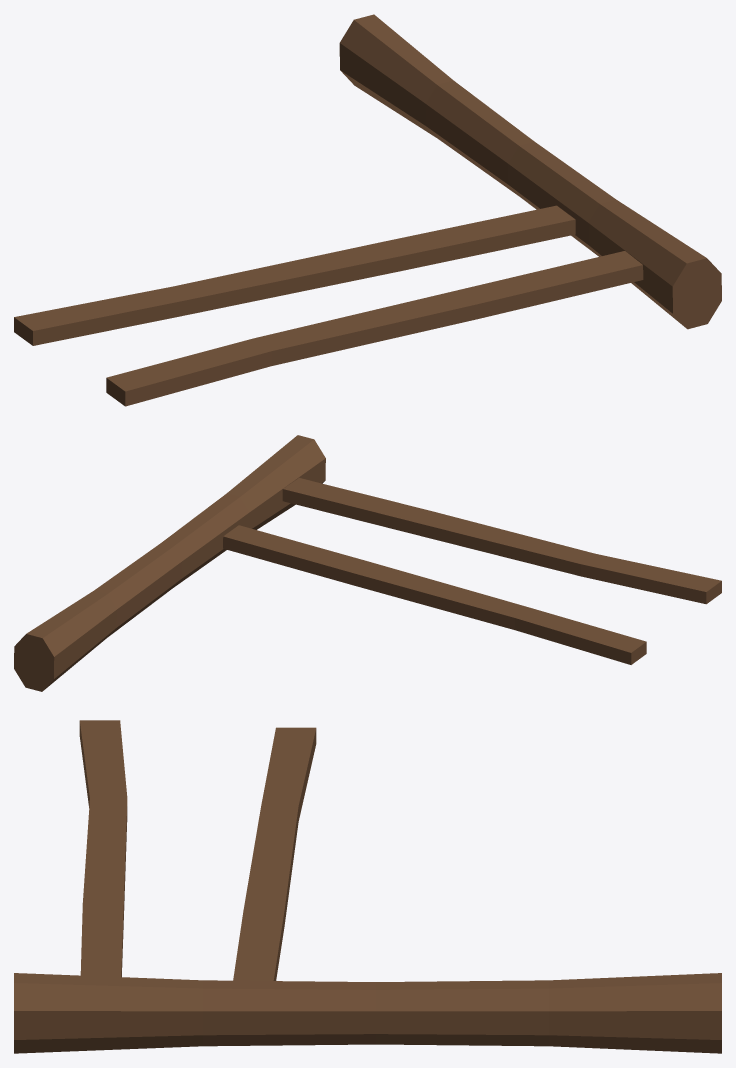
The model's file is Barrier_03_Right.fbx.
3 views of the same model, one above another, from view 1: azimuth 30°, elevation 25°; view 2: azimuth 150°, elevation 25°; view 3: azimuth 270°, elevation 25° (orthographic). The views are drawn at different scales.
Visible parts, largest first — view 1: Barriere_3 bord droit; view 2: Barriere_3 bord droit; view 3: Barriere_3 bord droit.
Boxes of the visible parts, x1,y1,x2,y2 form: Barriere_3 bord droit: (14, 14, 721, 406); Barriere_3 bord droit: (14, 435, 721, 691); Barriere_3 bord droit: (14, 720, 721, 1053).
Size of the model in its own units: 98.19 by 11.02 by 100.
